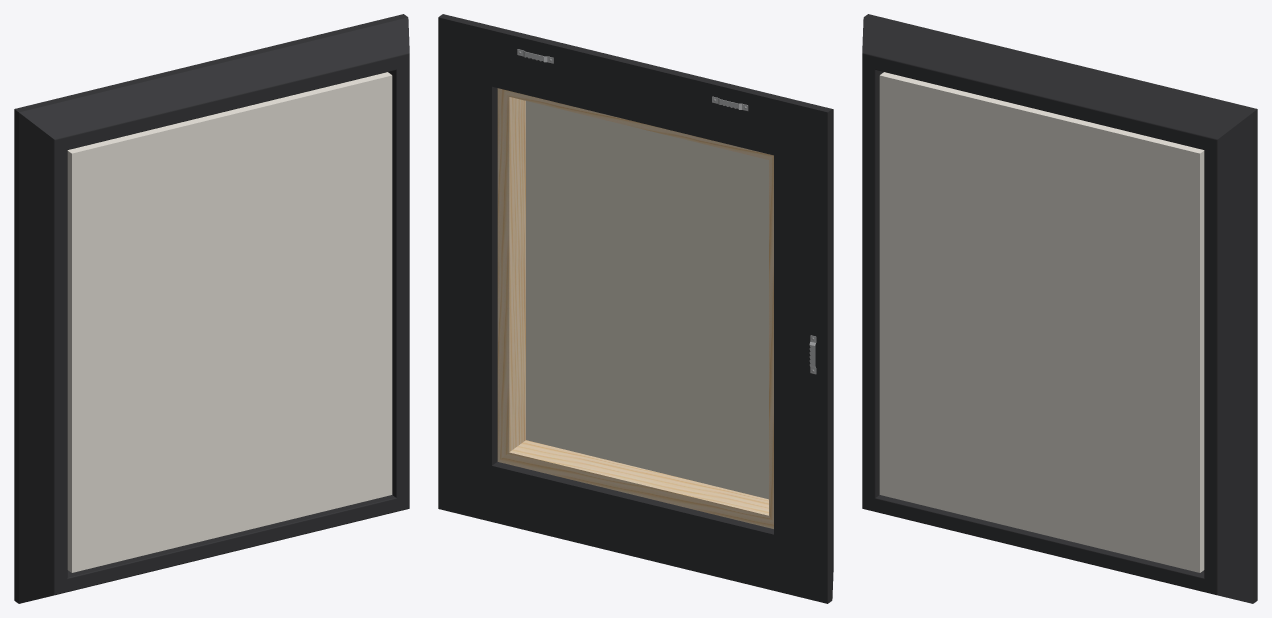
The model's file is delivery.glb.
3 renders of one model, left to right at view 1: azimuth 30°, elevation 25°; view 2: azimuth 150°, elevation 25°; view 3: azimuth 330°, elevation 25°, orthographic.
Parts seen in each view (by area): view 1: Canvas artwork front, Tray approved profile 0; view 2: Tray approved profile 0, Canvas linen reverse, Stretcher top, Sawtooth hanger 0; view 3: Canvas artwork front, Tray approved profile 0.
Boxes of the visible parts, bbox=[...] form: Canvas artwork front: bbox=[67, 72, 392, 572]; Tray approved profile 0: bbox=[14, 14, 409, 603]; Tray approved profile 0: bbox=[438, 14, 833, 603]; Canvas linen reverse: bbox=[526, 101, 768, 499]; Stretcher top: bbox=[497, 88, 773, 528]; Sawtooth hanger 0: bbox=[517, 49, 816, 374]; Canvas artwork front: bbox=[879, 72, 1204, 572]; Tray approved profile 0: bbox=[862, 14, 1257, 603].
Bounding box in the file's own units: 0.486 × 0.586 × 0.0524.
Materials: 7 (2 with a texture image).
